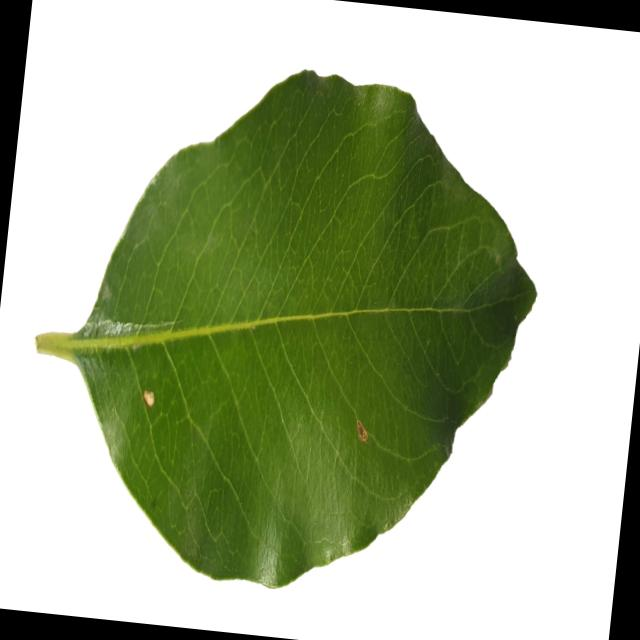Medicinal-Sandalwood: (8, 40, 558, 615)
